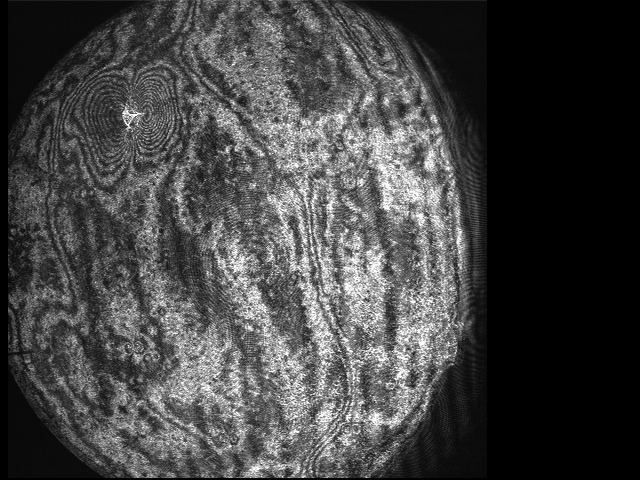plume: (80, 69, 178, 192)
